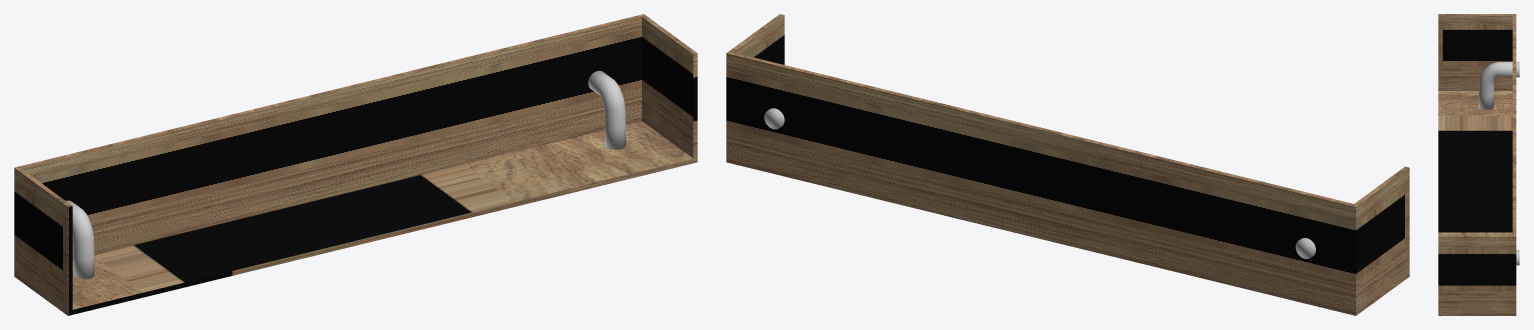
File: WallReol.fbx
3 renders of one model, left to right at view 1: azimuth 30°, elevation 25°; view 2: azimuth 150°, elevation 25°; view 3: azimuth 270°, elevation 25°, orthographic. The views are drawn at different scales.
Parts seen in each view (by area): view 1: WallShelf1.003, Cylinder.048; view 2: WallShelf1.003, Cylinder.048; view 3: WallShelf1.003, Cylinder.048.
Part boxes in pixels (x1,y1,x2,y2): WallShelf1.003: (14,14,697,315); Cylinder.048: (66,70,626,279); WallShelf1.003: (726,14,1409,315); Cylinder.048: (764,108,1315,258); WallShelf1.003: (1438,14,1516,315); Cylinder.048: (1478,62,1519,265).
Bounding box in the file's own units: 677 × 112 × 104.
